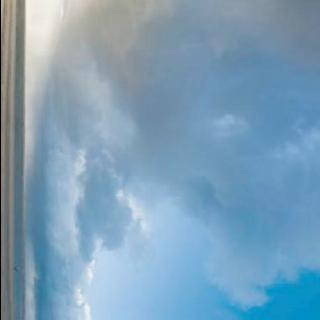Nimbostratus: (23, 0, 320, 320)
